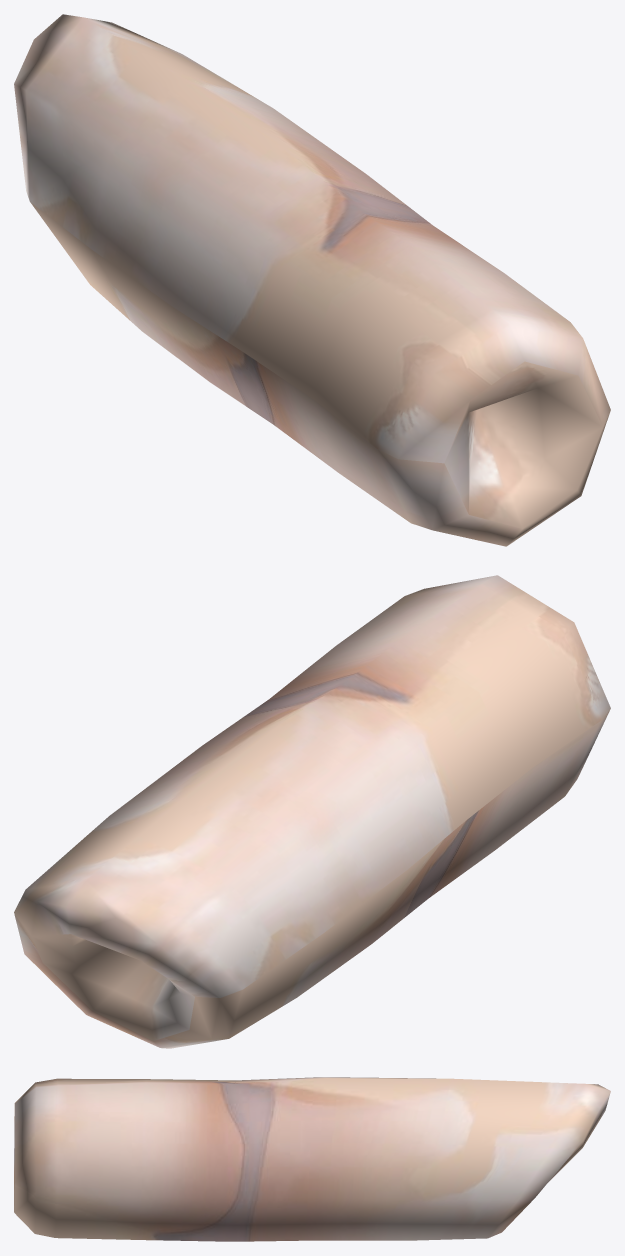
The model's file is monster_hara_kiritan_kiritanpo2.glb.
3 renders of one model, top to bottom at view 1: azimuth 30°, elevation 25°; view 2: azimuth 150°, elevation 25°; view 3: azimuth 270°, elevation 25°, orthographic. The views are drawn at different scales.
Size of the model in its own units: 0.2364 by 0.2357 by 0.7884.
1 material, 1 textured.
